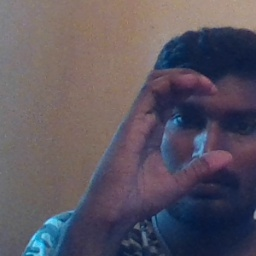C: (115, 56, 241, 202)
